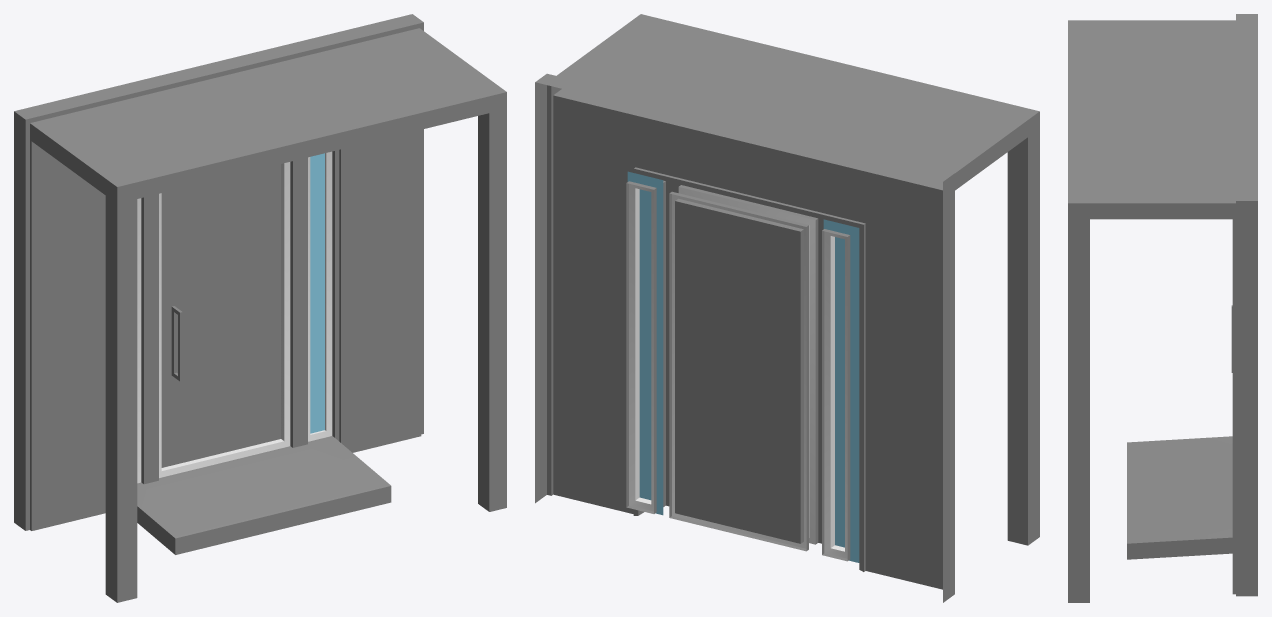
Rendered from Door.FBX.
The picture shows the model from 3 angles, left to right: view 1: azimuth 30°, elevation 25°; view 2: azimuth 150°, elevation 25°; view 3: azimuth 270°, elevation 25°; orthographic projection. The views are drawn at different scales.
Parts seen in each view (by area): view 1: Door; view 2: Door; view 3: Door.
Part boxes in pixels (x1=…): Door: x1=14, y1=14, x2=506, y2=602; Door: x1=535, y1=14, x2=1039, y2=602; Door: x1=1068, y1=14, x2=1257, y2=602.
Size of the model in its own units: 20 by 20.16 by 8.59.
